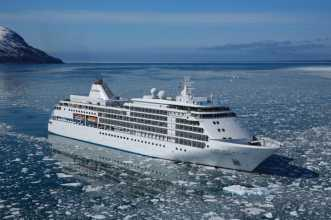youlun: (46, 72, 282, 170)
